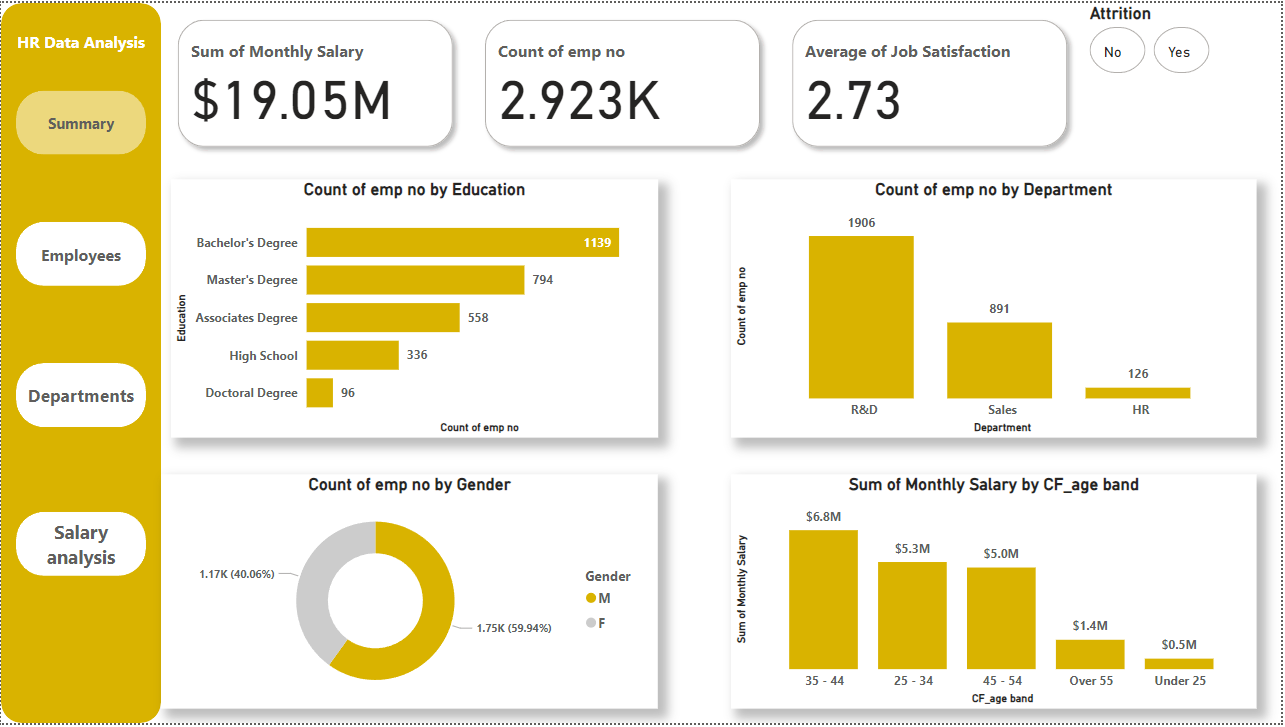

What the dashboard file says about the page in this screenshot:
{"tool":"powerbi","page":{"name":"Main Dashboard","canvas":[1280,720],"ordinal":0},"visuals":[{"type":"shape","box":[0,0,160,720],"z":0},{"type":"actionButton","box":[14.6,87.1,130,64.3],"z":1000},{"type":"actionButton","box":[14.6,218.6,130,64.3],"z":2000},{"type":"actionButton","box":[14.6,360,130,64.3],"z":3000},{"type":"actionButton","box":[14.6,508.6,130,64.3],"z":4000},{"type":"cardVisual","fields":{"Data":["Sum(Sheet1.Monthly Salary)","Count(Sheet1.emp no)","Avg(Sheet1.Job Satisfaction)"]},"box":[160,0,924.3,161.4],"z":5000},{"type":"advancedSlicerVisual","fields":{"Values":["Sheet1.Attrition"]},"box":[1084.3,0,195.7,75.7],"z":6000},{"type":"clusteredBarChart","fields":{"Category":["Sheet1.Education"],"Y":["CountNonNull(Sheet1.emp no)"]},"box":[170,175.7,487.1,258.6],"z":7000},{"type":"donutChart","fields":{"Category":["Sheet1.Gender"],"Y":["CountNonNull(Sheet1.emp no)"]},"box":[160,471.4,497.1,234.3],"z":8000},{"type":"clusteredColumnChart","fields":{"Category":["Sheet1.CF_age band"],"Y":["Sum(Sheet1.Monthly Salary)"]},"box":[730,471.4,525.7,234.3],"z":9000},{"type":"clusteredColumnChart","fields":{"Y":["CountNonNull(Sheet1.emp no)"],"Category":["Sheet1.Department"]},"box":[730,175.7,525.7,258.6],"z":10000},{"type":"shape","box":[7.5,21.2,145,33.8],"z":10001}]}

Visuals, with their boxes in screenshot pixels (x1, y1, x2, y2), scaled from the page's 1280x720 canvas onto the 1285x727 screenshot:
shape: (0, 0, 161, 726)
actionButton: (15, 88, 145, 153)
actionButton: (15, 221, 145, 286)
actionButton: (15, 364, 145, 428)
actionButton: (15, 514, 145, 578)
cardVisual - Sum(Sheet1.Monthly Salary) x Count(Sheet1.emp no): (161, 0, 1089, 163)
advancedSlicerVisual - Sheet1.Attrition: (1089, 0, 1284, 76)
clusteredBarChart - Sheet1.Education x CountNonNull(Sheet1.emp no): (171, 177, 660, 439)
donutChart - Sheet1.Gender x CountNonNull(Sheet1.emp no): (161, 476, 660, 713)
clusteredColumnChart - Sheet1.CF_age band x Sum(Sheet1.Monthly Salary): (733, 476, 1261, 713)
clusteredColumnChart - CountNonNull(Sheet1.emp no) x Sheet1.Department: (733, 177, 1261, 439)
shape: (8, 21, 153, 56)
